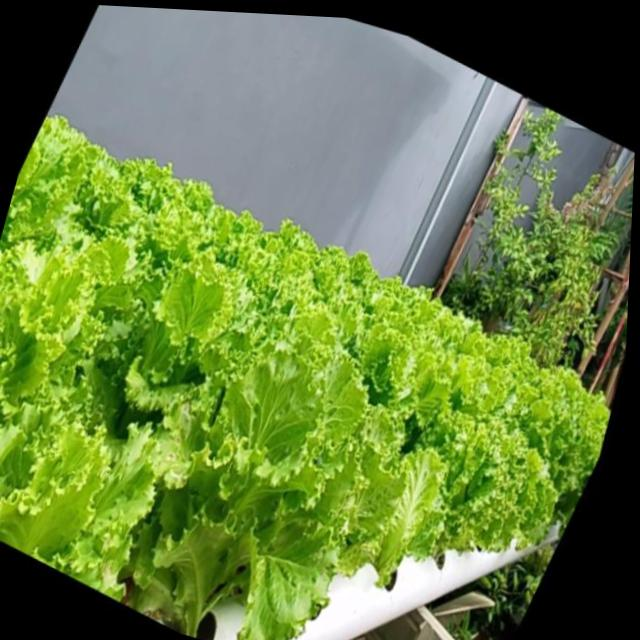Mature: (0, 100, 596, 640), (148, 345, 385, 639), (396, 372, 580, 567)
